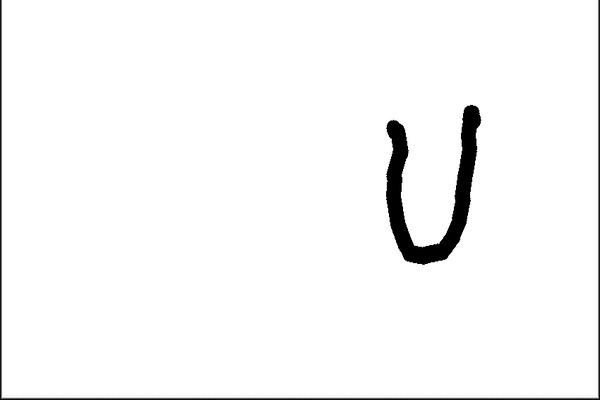U: (372, 90, 491, 270)
